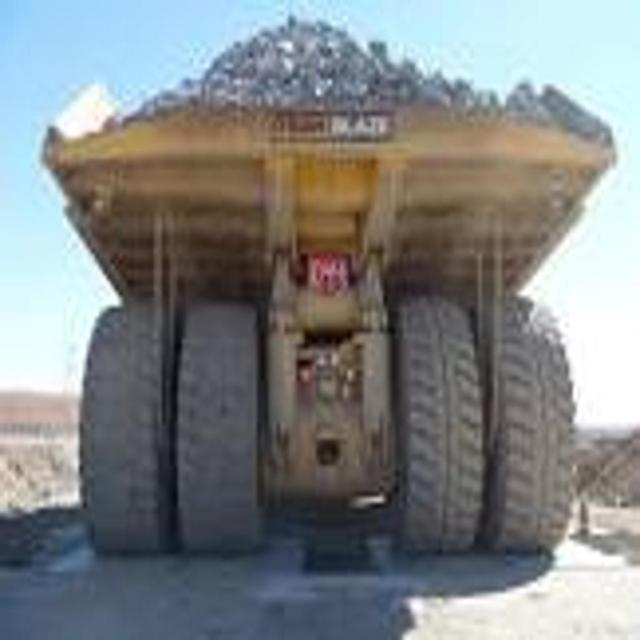dump_truck: (43, 17, 613, 564)
